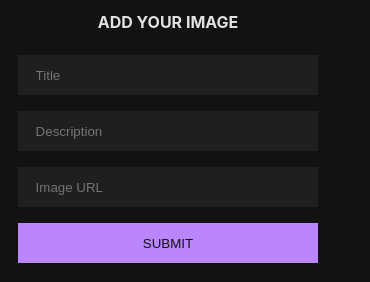
Test: <Form /> component › Error text is rendered if user inputs invalid URL and clicks Submit btn
Type "blaa" into the field with placeholder "Image URL" at (186, 187), box x1=18 y1=167 x2=353 y2=207
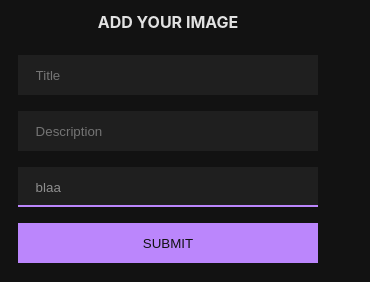
Click the button at (168, 243), box x1=18 y1=223 x2=318 y2=263
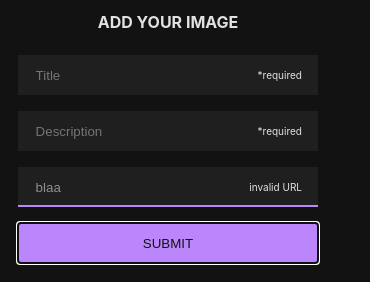
Expected: the text "invalid" is shown, x1=249 y1=181 x2=302 y2=193
